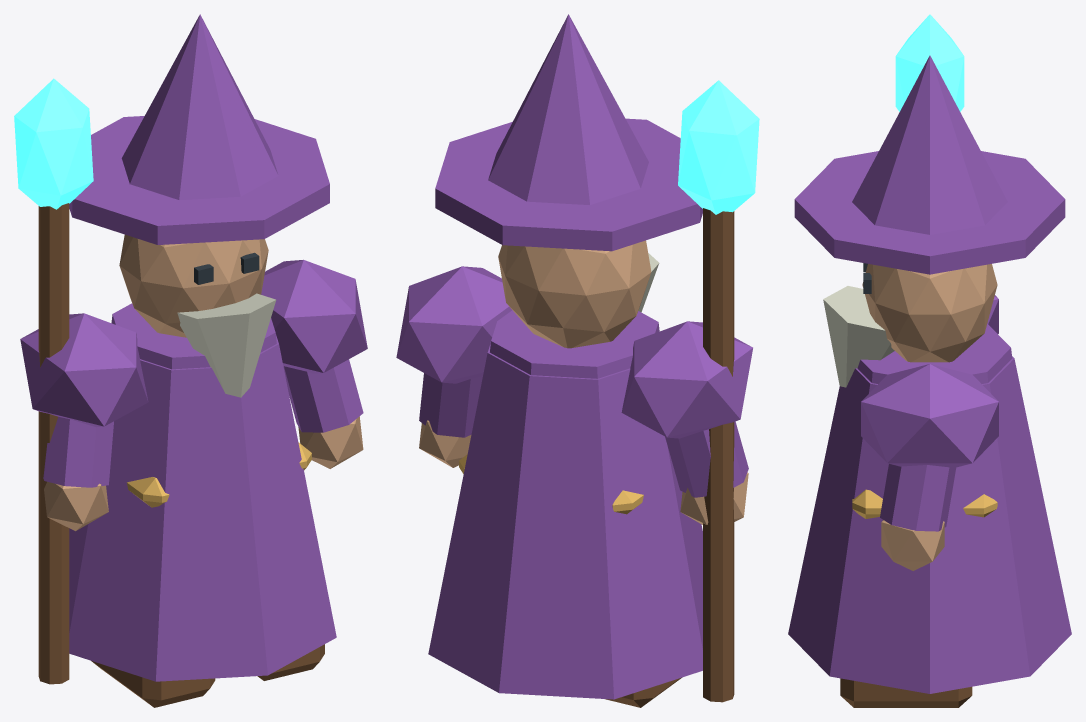
Rendered from wizard.glb.
3 views of the same model, side by side, from view 1: azimuth 30°, elevation 25°; view 2: azimuth 150°, elevation 25°; view 3: azimuth 270°, elevation 25° (orthographic). The views are drawn at different scales.
Parts seen in each view (by area): view 1: wizard; view 2: wizard; view 3: wizard.
Part boxes in pixels (x1,y1,x2,y2): wizard: (14,14,367,707); wizard: (396,14,759,707); wizard: (788,14,1071,707).
Size of the model in its own units: 1.11 by 2.02 by 0.84.
